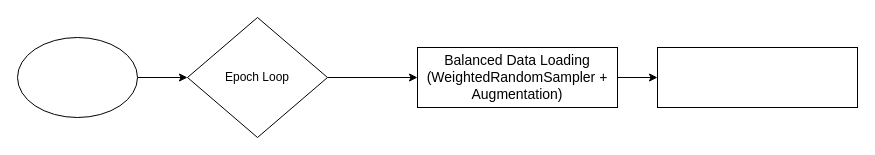
Some shapes in this 875 by 155 pixel diagram are drawn without their labels. Here are the shapes that lost their labels. From the top down, the centre of each, then its label:
(77,77): Start
(757,77): Model Optimization (FocalLoss, Mixed Precision, Grad Clipping)
